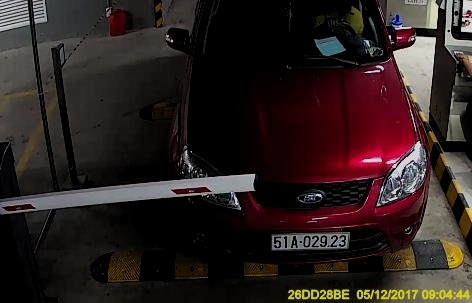plate: (271, 228, 349, 250)
